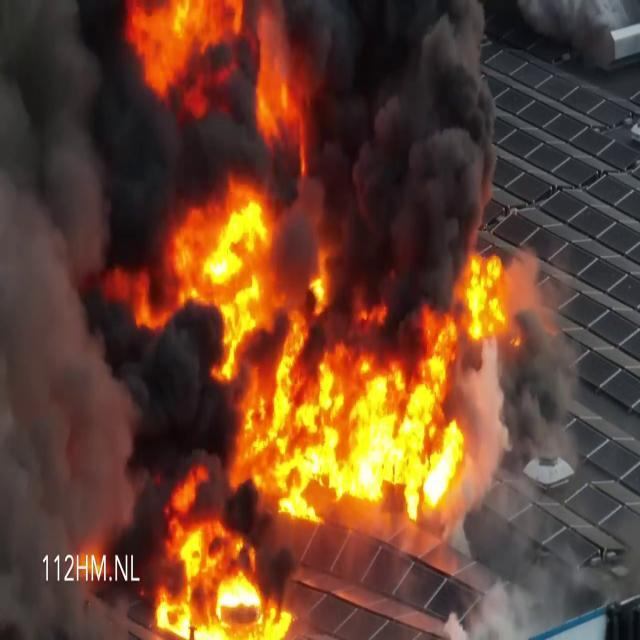Fire: (134, 197, 536, 524), (148, 487, 298, 638), (250, 0, 314, 162), (123, 2, 234, 94)
Smoke: (0, 0, 211, 532), (292, 2, 500, 306)
